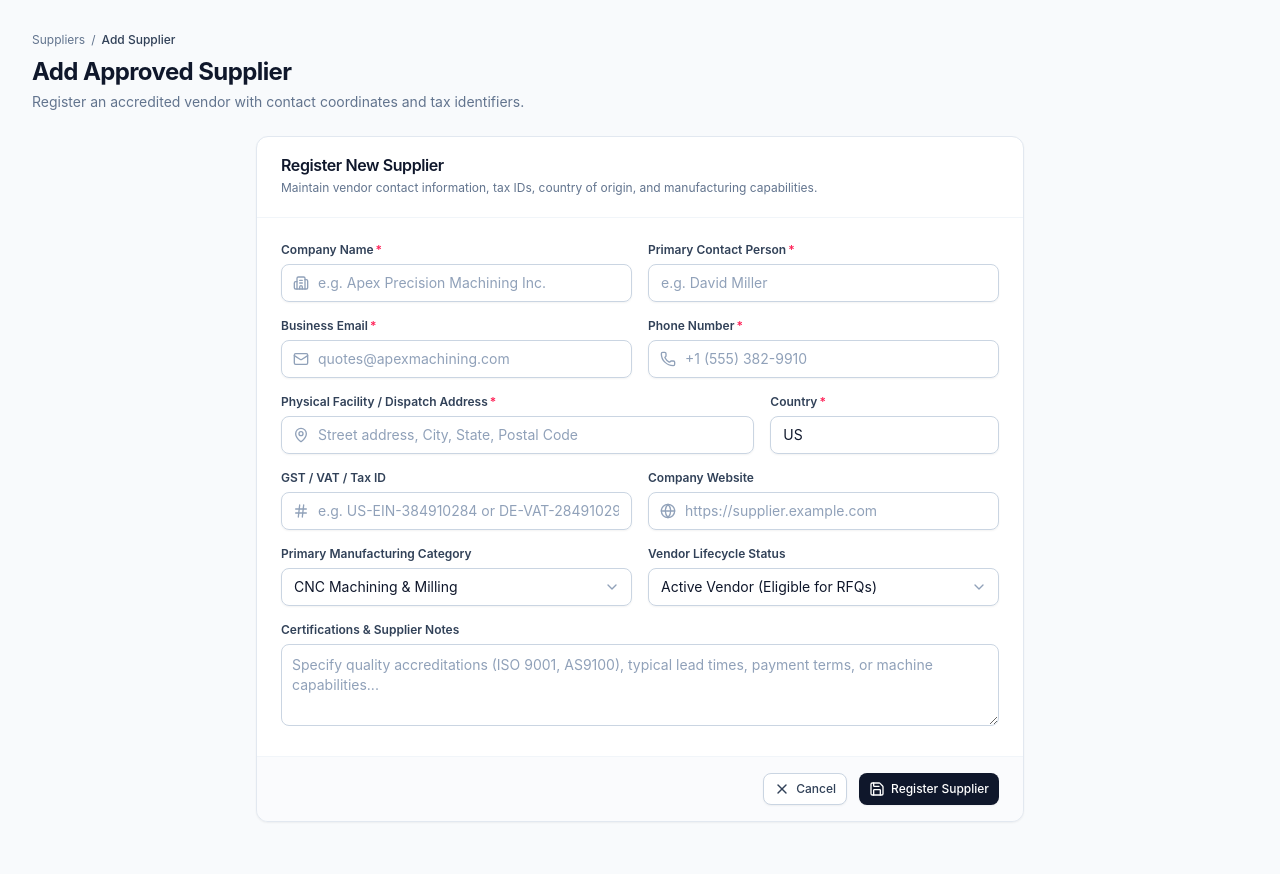
Test: CreateSupplierPage Integration › displays server error banner when creation fails on backend
Type "Duplicate CNC" into the field labelled "Company Name*" at (456, 283), box left=281, top=264, right=632, bottom=302
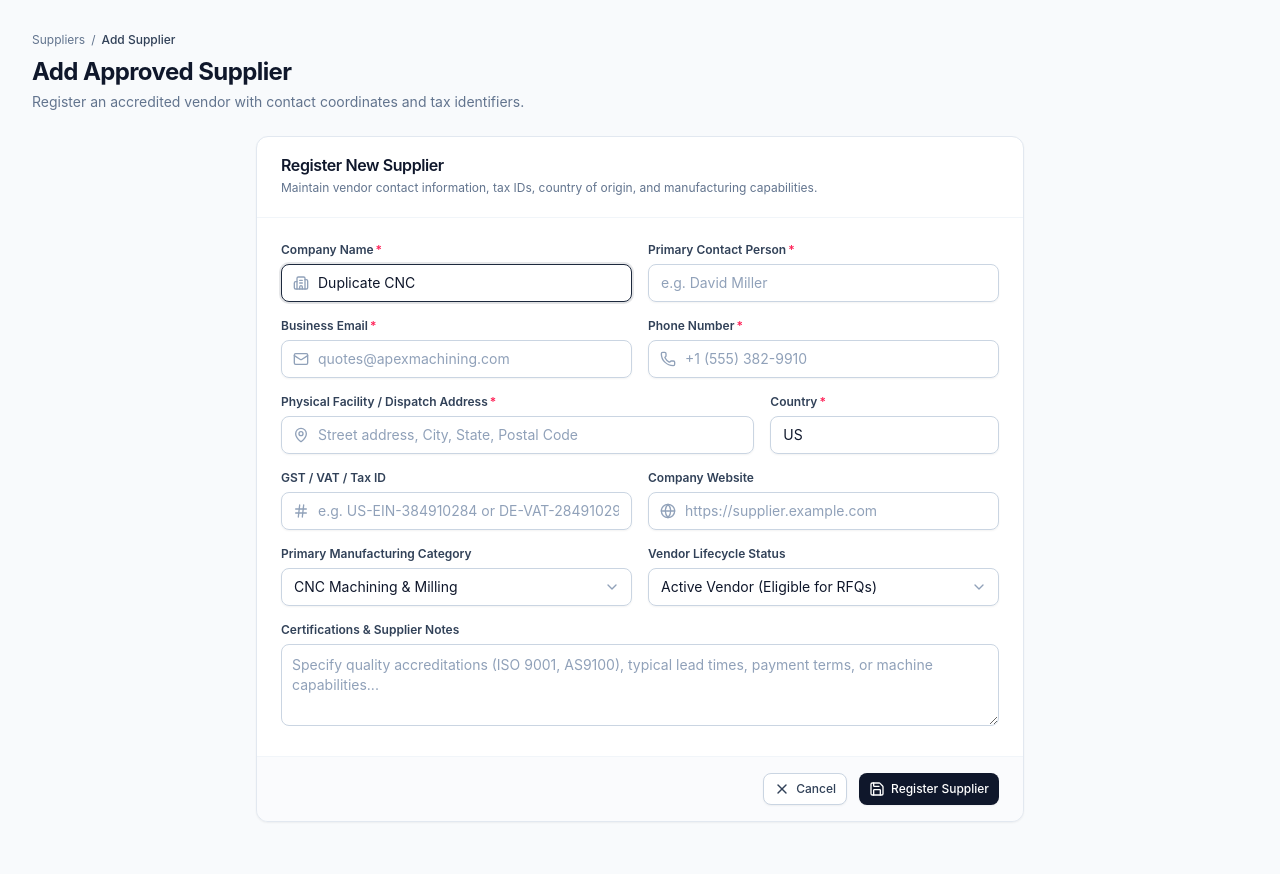
Type "Bob Ross" into the field labelled "Primary Contact Person*" at (824, 283), box left=648, top=264, right=999, bottom=302
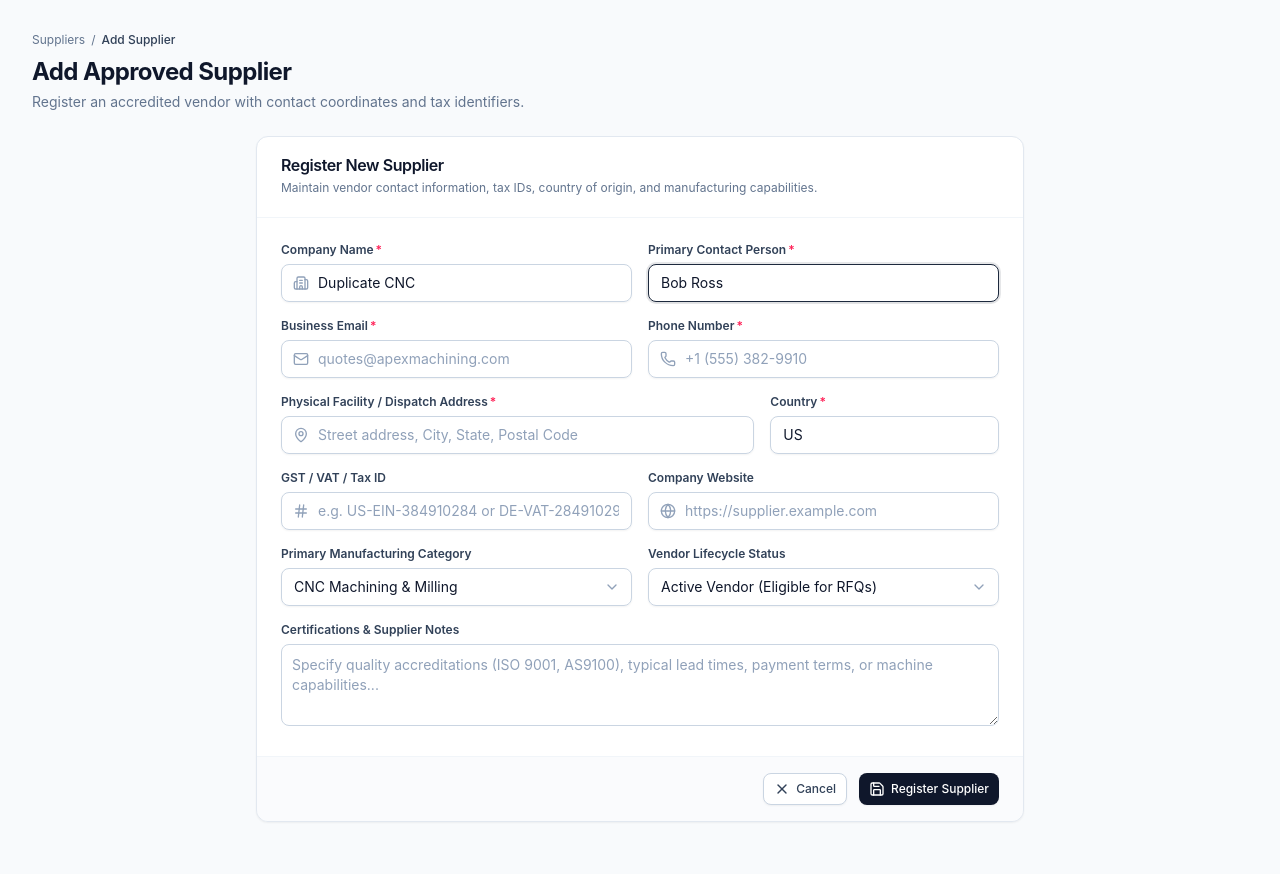
Type "bob@globalcnc.com" into the field labelled "Business Email*" at (456, 359), box left=281, top=340, right=632, bottom=378
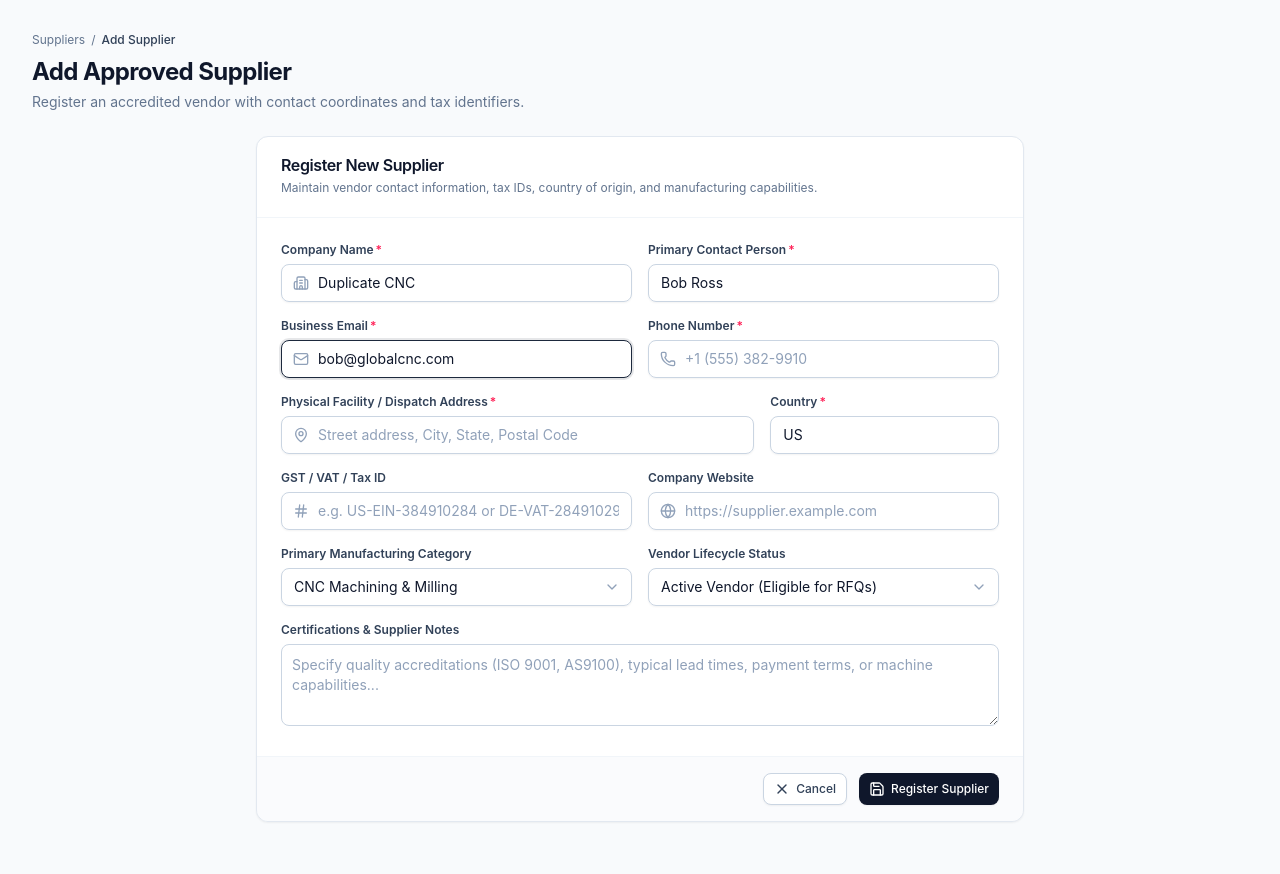
Type "+15553334444" into the field labelled "Phone Number*" at (824, 359), box left=648, top=340, right=999, bottom=378
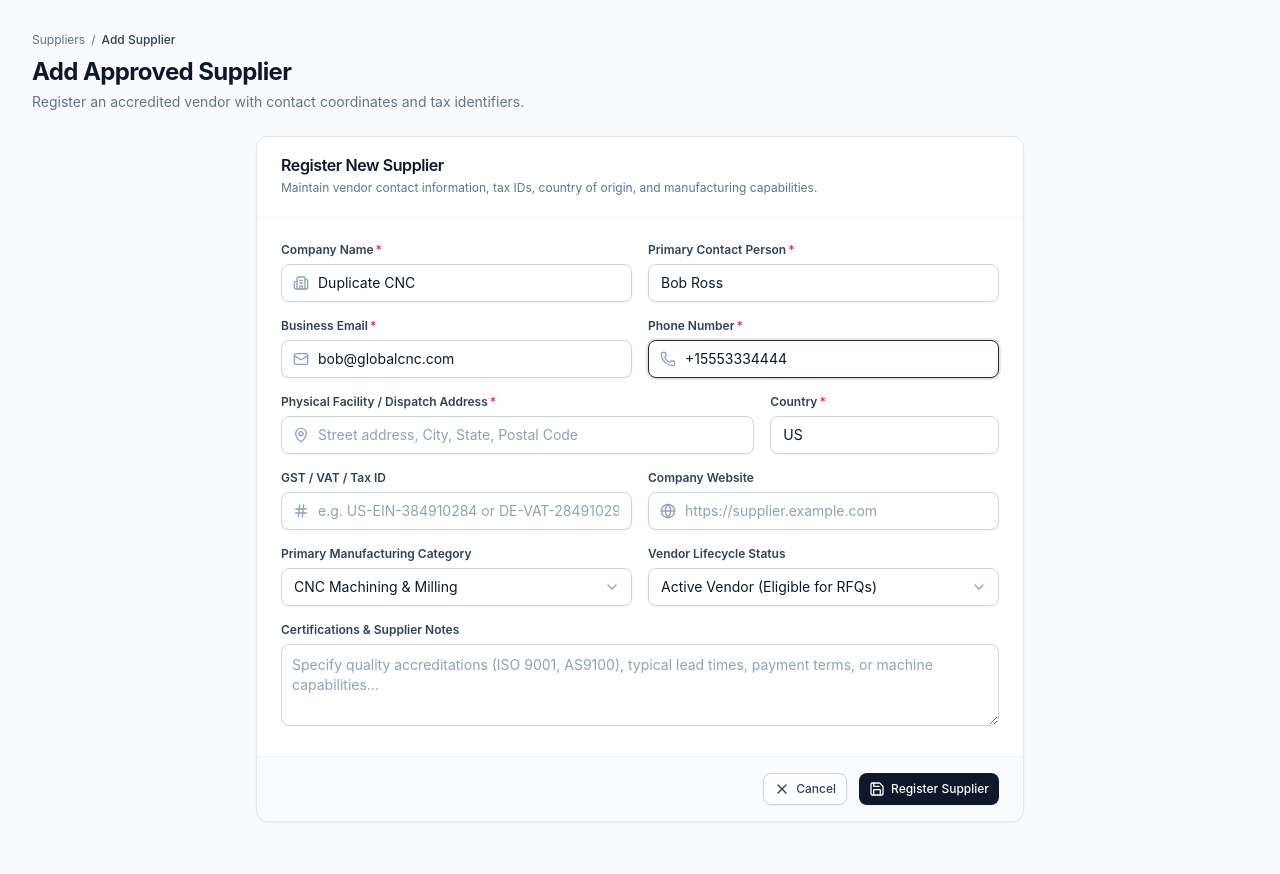
Type "88 Milling Street" into the field labelled "Physical Facility / Dispatch Address*" at (518, 435), box left=281, top=416, right=754, bottom=454
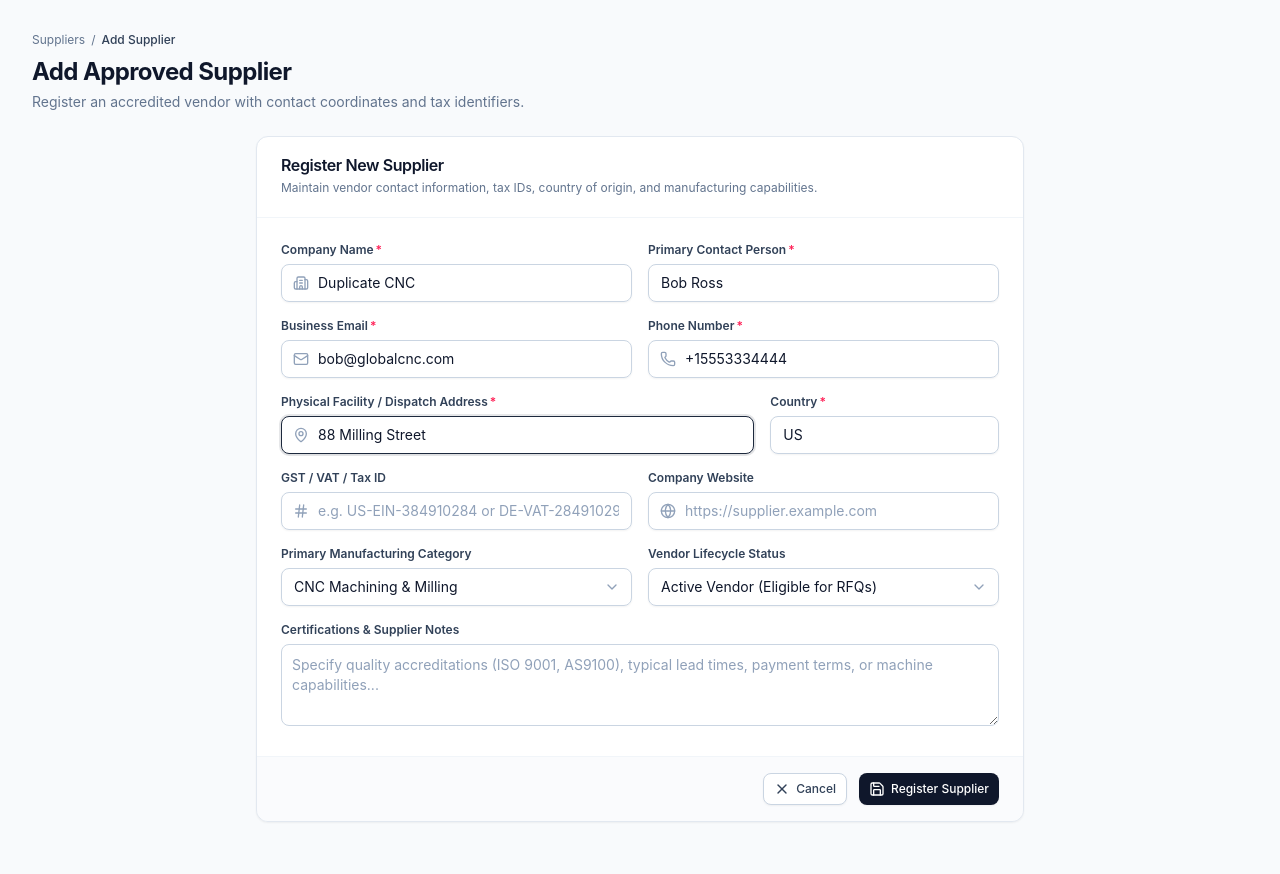
Click the button "Register Supplier" at (929, 789), box left=859, top=773, right=999, bottom=805
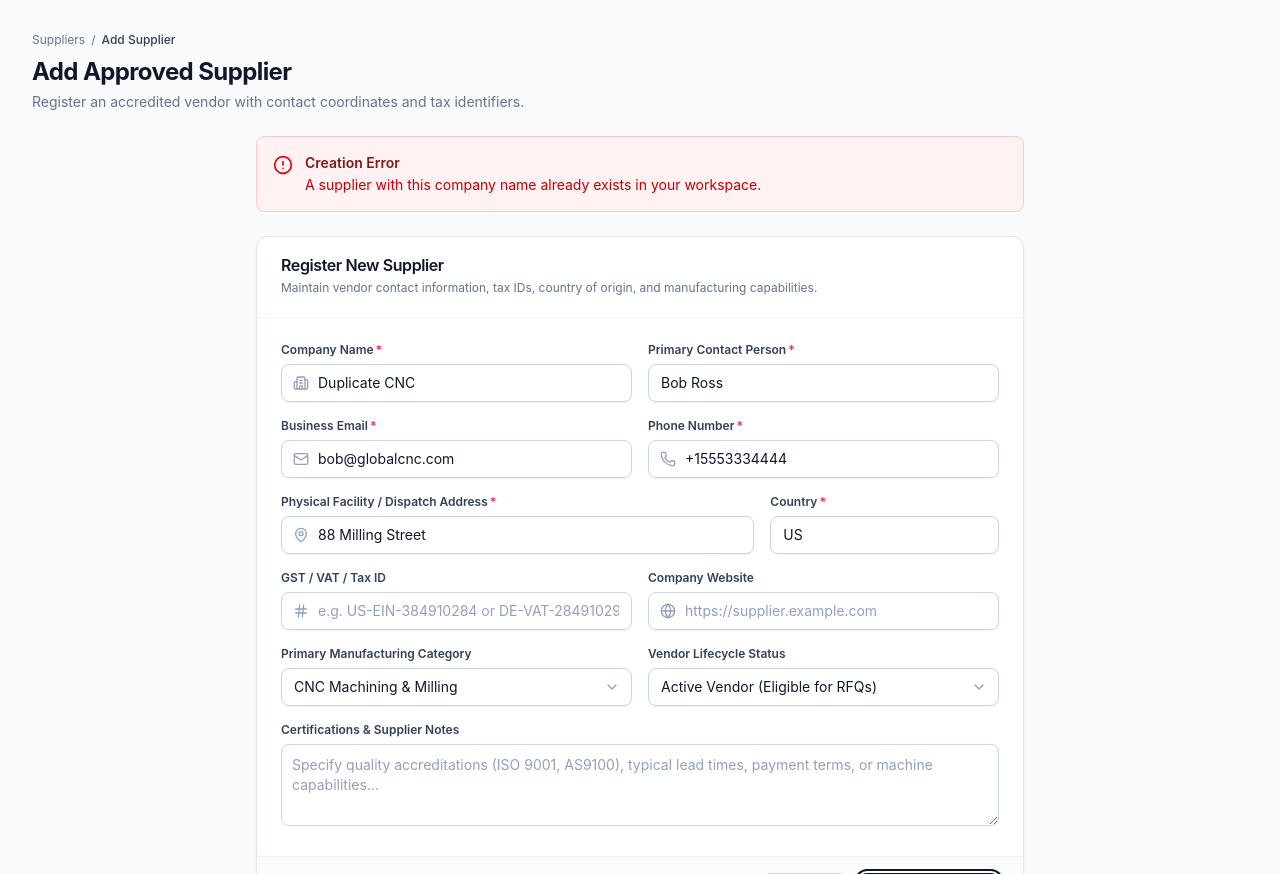
Now the text "A supplier with this company name already exists in your workspace." is shown, box left=305, top=175, right=761, bottom=195
